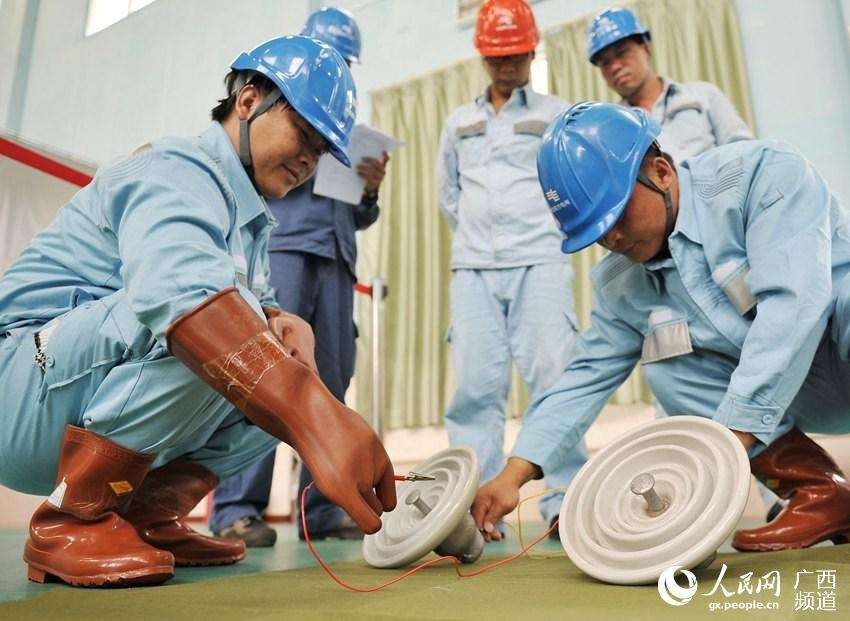blue: (534, 101, 674, 266), (225, 33, 360, 196), (587, 8, 651, 98)
red: (473, 1, 536, 95)
